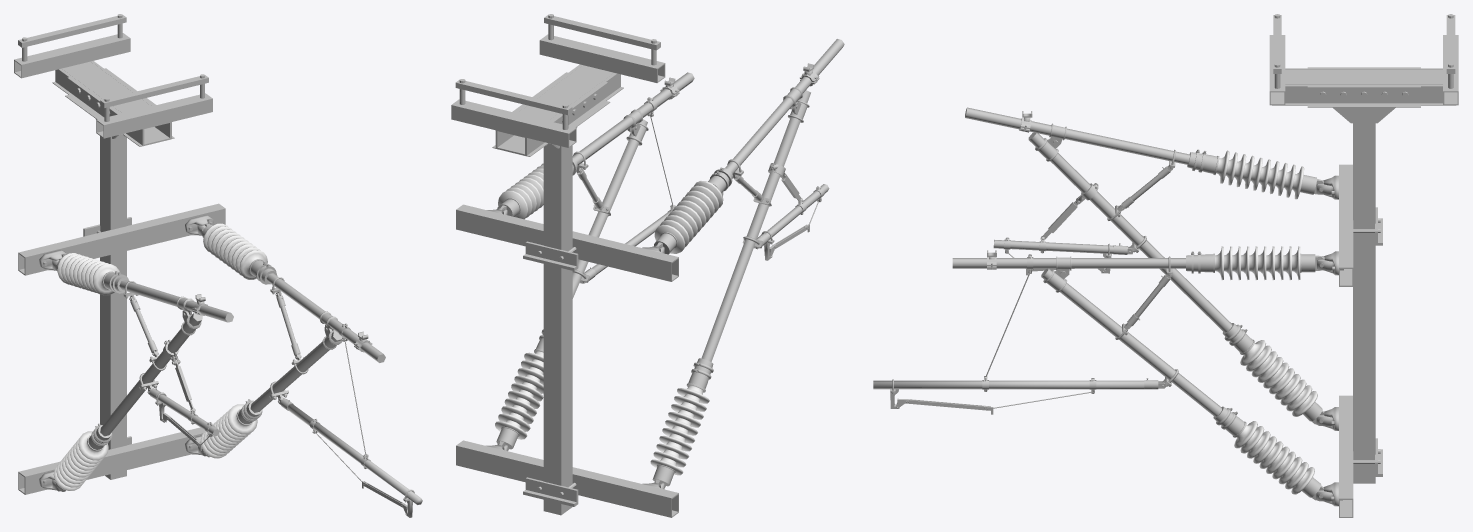
The model's file is gantry_short_transition_1.obj.
The picture shows the model from 3 angles, left to right: view 1: azimuth 30°, elevation 25°; view 2: azimuth 150°, elevation 25°; view 3: azimuth 270°, elevation 25°; orthographic projection. The views are drawn at different scales.
Visible parts, largest first — view 1: 立方体.106, 立方体.243, 立方体.248, 立方体.098, 立方体.096, 立方体.103, 贝塞尔曲线.169, 贝塞尔曲线.173, 贝塞尔曲线.171, 贝塞尔曲线.172, 贝塞尔曲线.170, 立方体.105 (+4 smaller); view 2: 立方体.106, 立方体.243, 立方体.248, 贝塞尔曲线.169, 立方体.096, 立方体.098, 立方体.103, 贝塞尔曲线.170, 贝塞尔曲线.172, 贝塞尔曲线.171, 立方体.105, 立方体.095 (+6 smaller); view 3: 立方体.106, 立方体.103, 贝塞尔曲线.169, 立方体.105, 贝塞尔曲线.173, 贝塞尔曲线.172, 贝塞尔曲线.170, 贝塞尔曲线.171, 立方体.248, 立方体.243, 贝塞尔曲线.168, 立方体.096 (+2 smaller).
Boxes of the visible parts, x1=… form: 立方体.106: x1=100, y1=134, x2=126, y2=479; 立方体.243: x1=18, y1=203, x2=225, y2=275; 立方体.248: x1=18, y1=424, x2=212, y2=494; 立方体.098: x1=14, y1=33, x2=130, y2=78; 立方体.096: x1=96, y1=93, x2=212, y2=138; 立方体.103: x1=58, y1=61, x2=156, y2=114; 贝塞尔曲线.169: x1=100, y1=312, x2=202, y2=436; 贝塞尔曲线.173: x1=287, y1=404, x2=422, y2=504; 贝塞尔曲线.171: x1=266, y1=273, x2=385, y2=362; 贝塞尔曲线.172: x1=250, y1=331, x2=342, y2=412; 贝塞尔曲线.170: x1=119, y1=280, x2=233, y2=322; 立方体.105: x1=55, y1=69, x2=171, y2=146; 立方体.106: x1=543, y1=144, x2=572, y2=515; 立方体.243: x1=456, y1=204, x2=678, y2=281; 立方体.248: x1=456, y1=440, x2=678, y2=517; 贝塞尔曲线.169: x1=701, y1=90, x2=810, y2=361; 立方体.096: x1=539, y1=34, x2=665, y2=82; 立方体.098: x1=451, y1=99, x2=576, y2=147; 立方体.103: x1=512, y1=64, x2=617, y2=122; 贝塞尔曲线.170: x1=725, y1=39, x2=844, y2=174; 贝塞尔曲线.172: x1=572, y1=119, x2=647, y2=298; 贝塞尔曲线.171: x1=572, y1=72, x2=694, y2=165; 立方体.105: x1=495, y1=73, x2=620, y2=156; 立方体.095: x1=544, y1=14, x2=660, y2=50; 立方体.106: x1=1353, y1=107, x2=1375, y2=483; 立方体.103: x1=1285, y1=67, x2=1442, y2=87; 贝塞尔曲线.169: x1=1028, y1=132, x2=1232, y2=332; 立方体.105: x1=1285, y1=69, x2=1442, y2=103; 贝塞尔曲线.173: x1=873, y1=380, x2=1144, y2=389; 贝塞尔曲线.172: x1=1041, y1=268, x2=1221, y2=417; 贝塞尔曲线.170: x1=965, y1=107, x2=1189, y2=164; 贝塞尔曲线.171: x1=952, y1=258, x2=1185, y2=268; 立方体.248: x1=1339, y1=395, x2=1353, y2=517; 立方体.243: x1=1339, y1=164, x2=1353, y2=286; 贝塞尔曲线.168: x1=993, y1=239, x2=1113, y2=253; 立方体.096: x1=1269, y1=35, x2=1285, y2=105.
Bounding box in the file's own units: 1.72 × 3.42 × 4.13.
